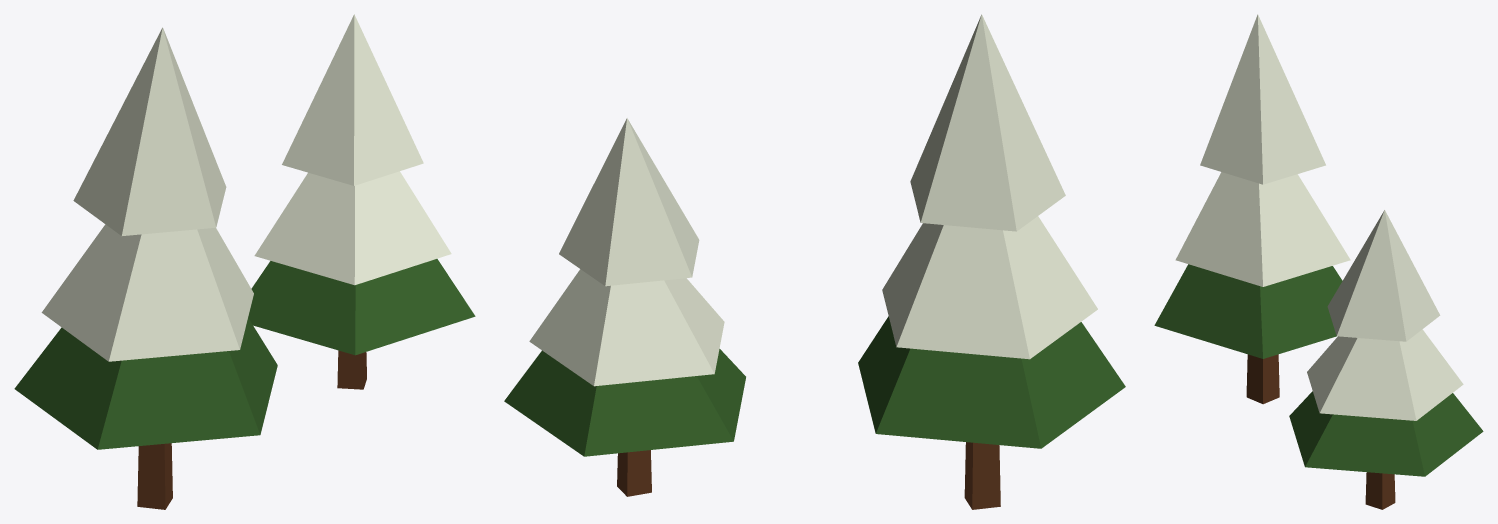
The model's file is SnowPinePair.fbx.
3 views of the same model, side by side, from view 1: azimuth 30°, elevation 25°; view 2: azimuth 150°, elevation 25°; view 3: azimuth 270°, elevation 25° (orthographic). The views are drawn at different scales.
Parts seen in each view (by area): view 1: SnowPinePair; view 2: SnowPinePair; view 3: SnowPinePair.
Boxes of the visible parts, x1,y1,x2,y2 form: SnowPinePair: (14, 14, 475, 509); SnowPinePair: (504, 14, 1125, 509); SnowPinePair: (1154, 14, 1483, 509).
Size of the model in its own units: 78.35 by 76 by 58.9.
